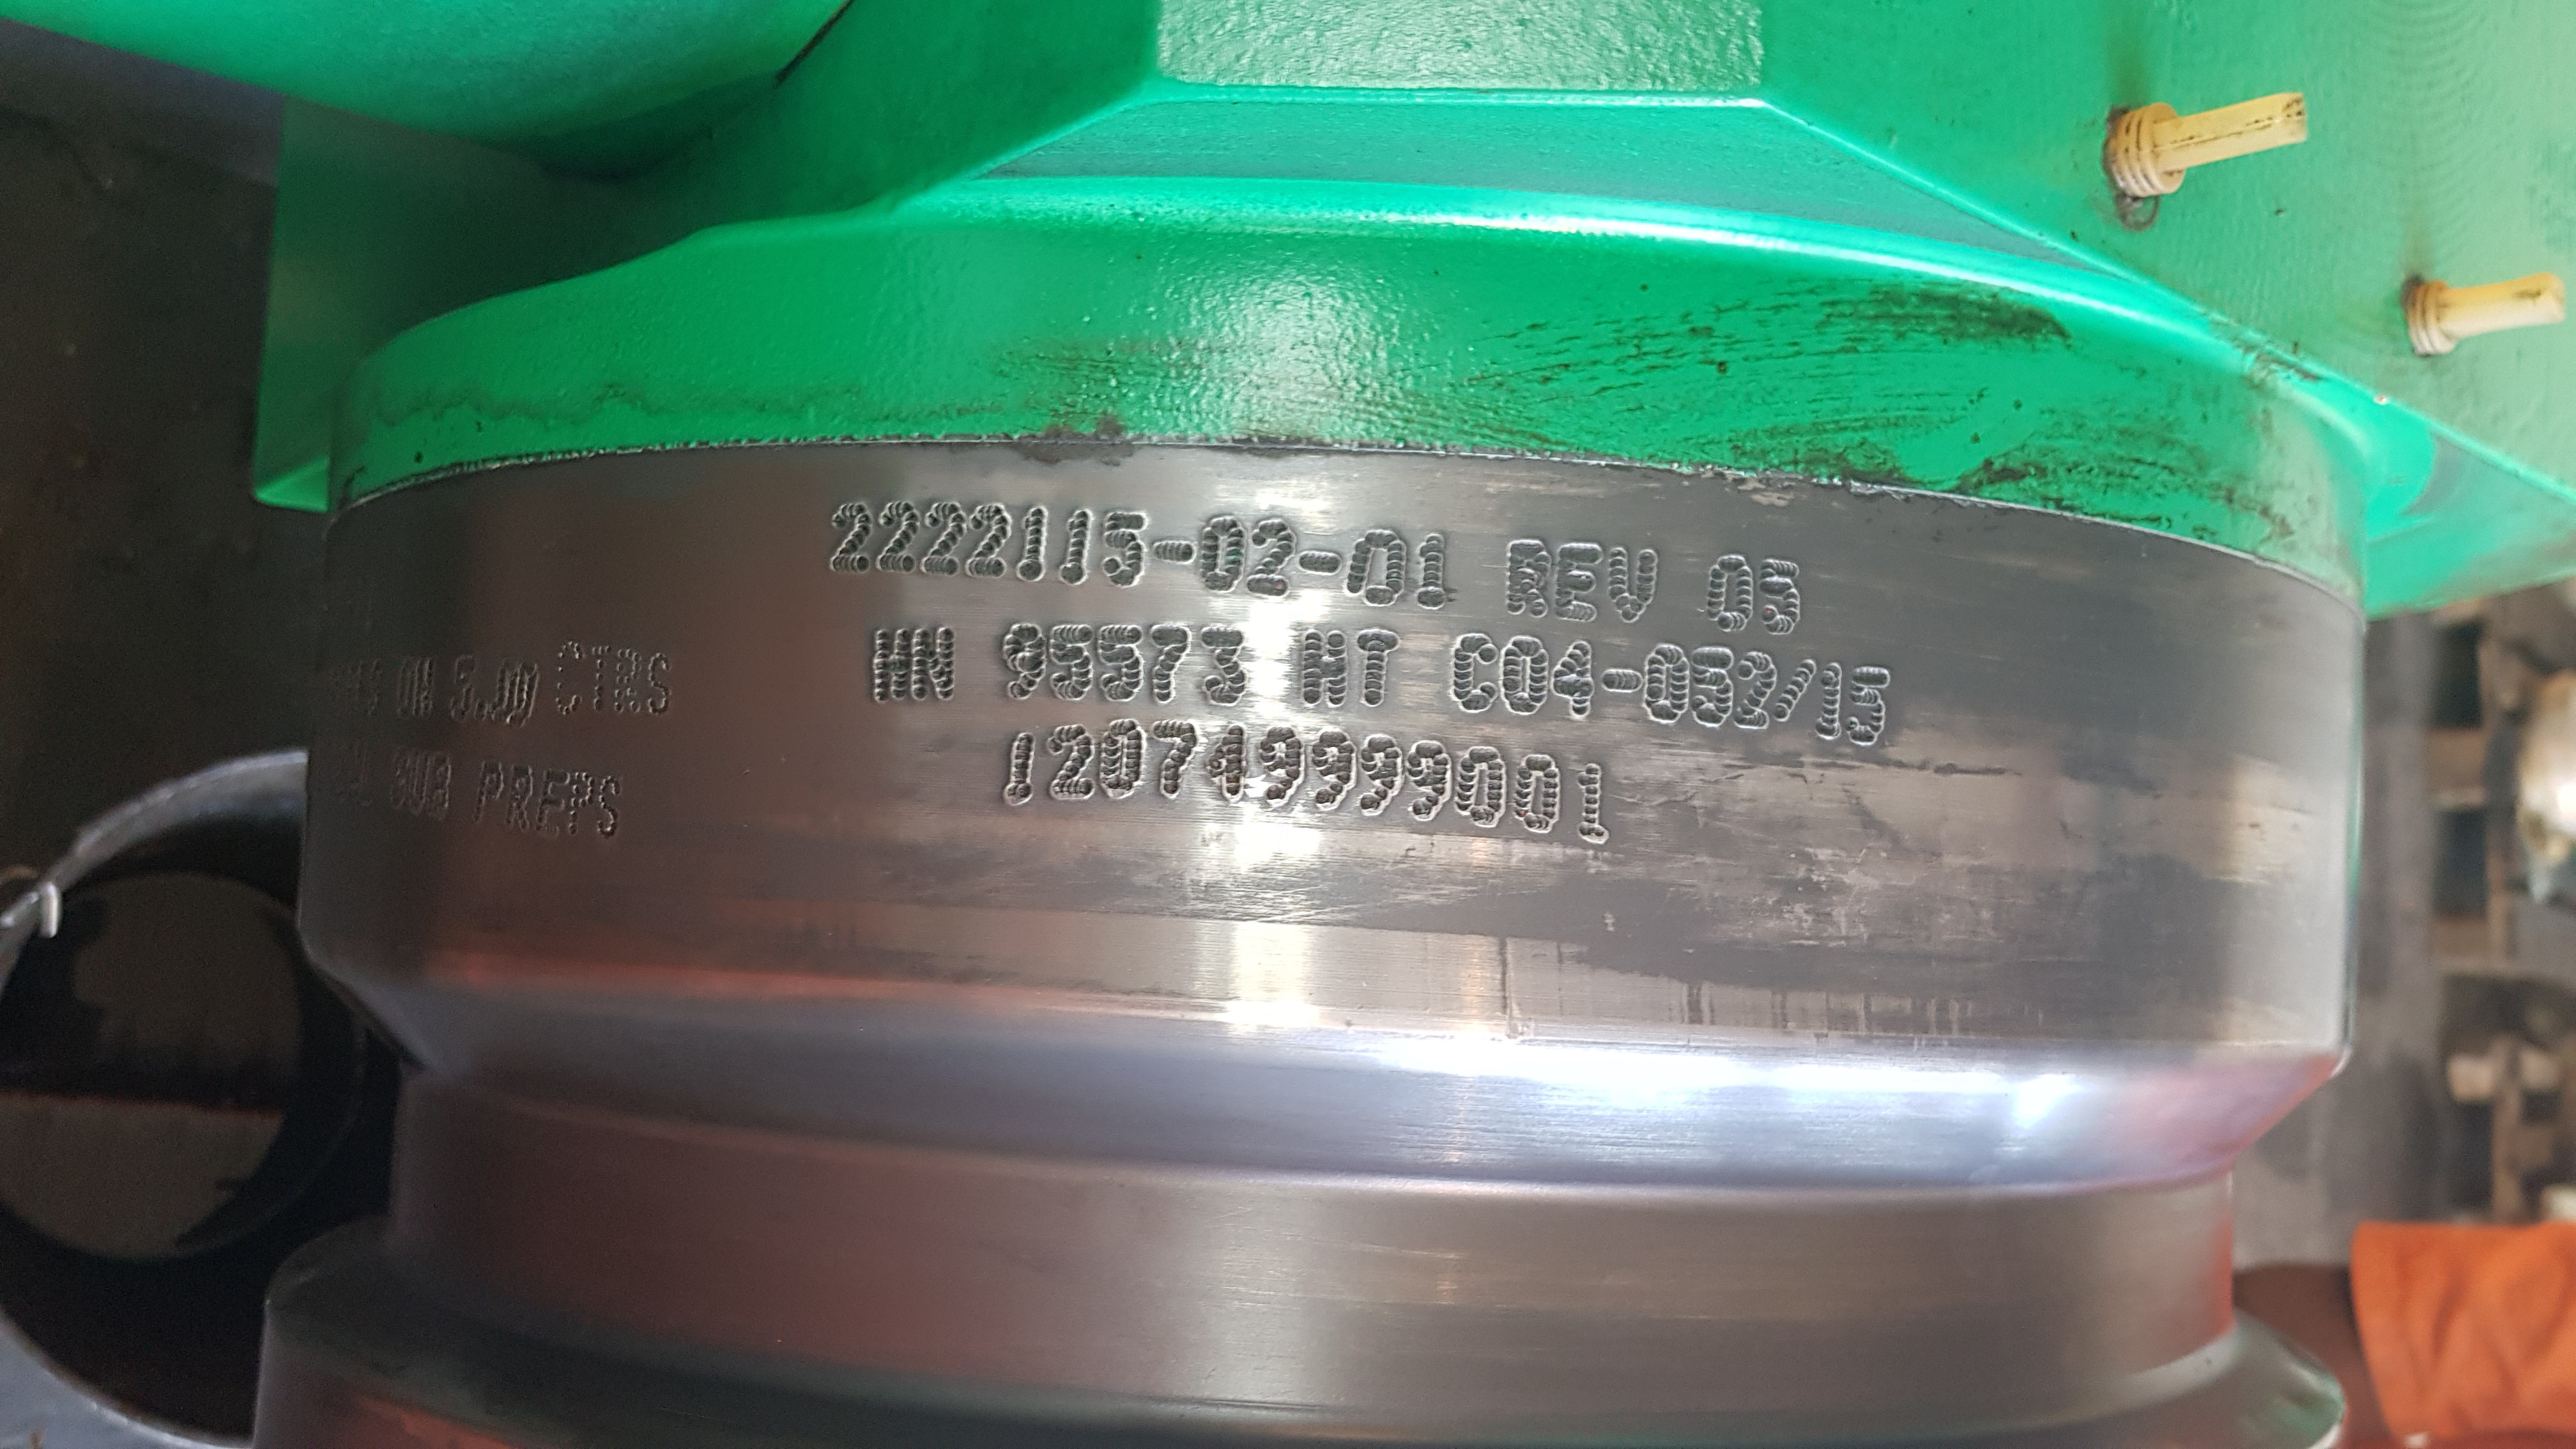character: (1191, 623, 1254, 709), (1511, 750, 1569, 844), (1681, 644, 1739, 736), (1348, 524, 1410, 610), (1605, 543, 1667, 630), (1453, 740, 1509, 833), (1497, 630, 1553, 722), (1552, 533, 1608, 623), (1502, 529, 1555, 625), (1304, 725, 1359, 817), (1295, 626, 1355, 709), (1253, 718, 1306, 812), (1191, 510, 1249, 594), (1042, 619, 1099, 706), (1447, 630, 1504, 717), (1755, 552, 1810, 640), (1146, 713, 1201, 800), (1638, 642, 1693, 727), (1569, 754, 1615, 853), (1704, 552, 1760, 632), (1546, 637, 1599, 722), (1047, 717, 1100, 801), (1097, 718, 1150, 803), (1405, 732, 1453, 826), (918, 497, 970, 584), (1143, 621, 1194, 708), (1844, 662, 1895, 748), (1246, 515, 1299, 598), (1093, 619, 1146, 702), (998, 718, 1046, 810), (1203, 724, 1258, 803), (909, 623, 959, 709), (826, 497, 879, 577), (1355, 732, 1405, 817), (870, 621, 918, 708), (872, 499, 925, 577), (1102, 506, 1152, 587), (1412, 531, 1461, 612), (1353, 623, 1403, 704), (966, 501, 1016, 580), (1000, 621, 1047, 702), (1734, 648, 1778, 734), (1056, 504, 1099, 586), (1014, 506, 1053, 586), (1773, 658, 1817, 725), (1817, 660, 1845, 747), (1297, 543, 1346, 587), (1596, 662, 1645, 706), (1148, 534, 1198, 571)
